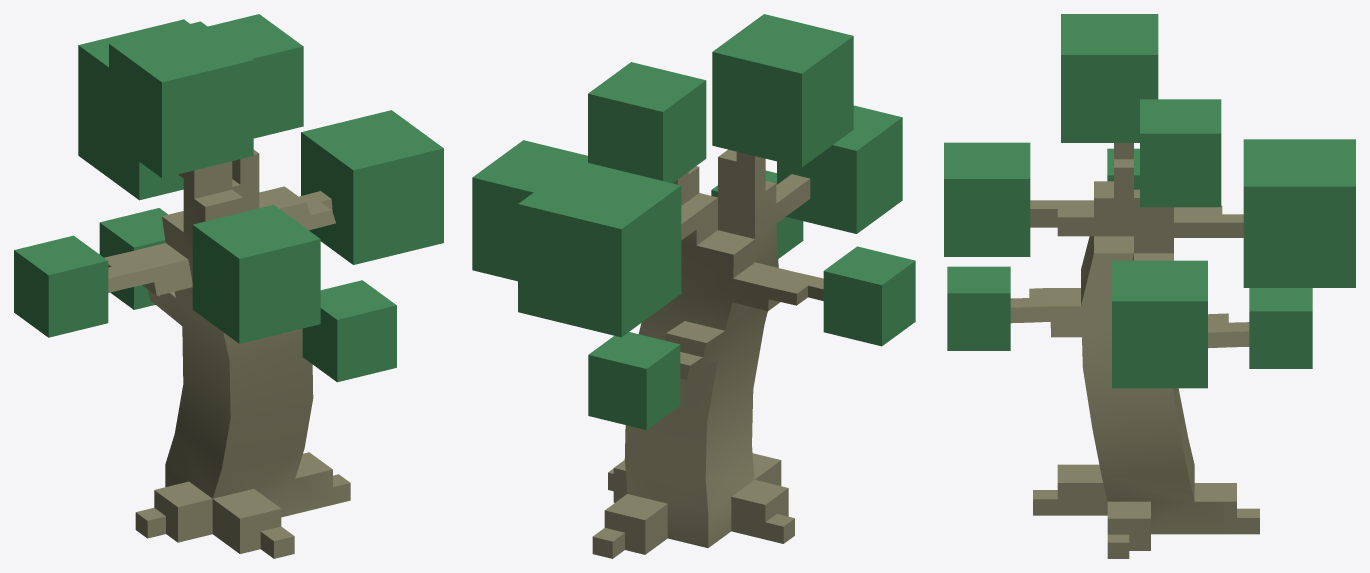
Rendered from medium_large_tree 1.fbx.
3 views of the same model, side by side, from view 1: azimuth 30°, elevation 25°; view 2: azimuth 150°, elevation 25°; view 3: azimuth 270°, elevation 25° (orthographic). The views are drawn at different scales.
Visible parts, largest first — view 1: polySurface1; view 2: polySurface1; view 3: polySurface1.
Boxes of the visible parts, bbox=[...] form: polySurface1: bbox=[14, 14, 443, 558]; polySurface1: bbox=[472, 14, 915, 558]; polySurface1: bbox=[944, 14, 1355, 558].
Size of the model in its own units: 19.47 by 22.84 by 18.99.
